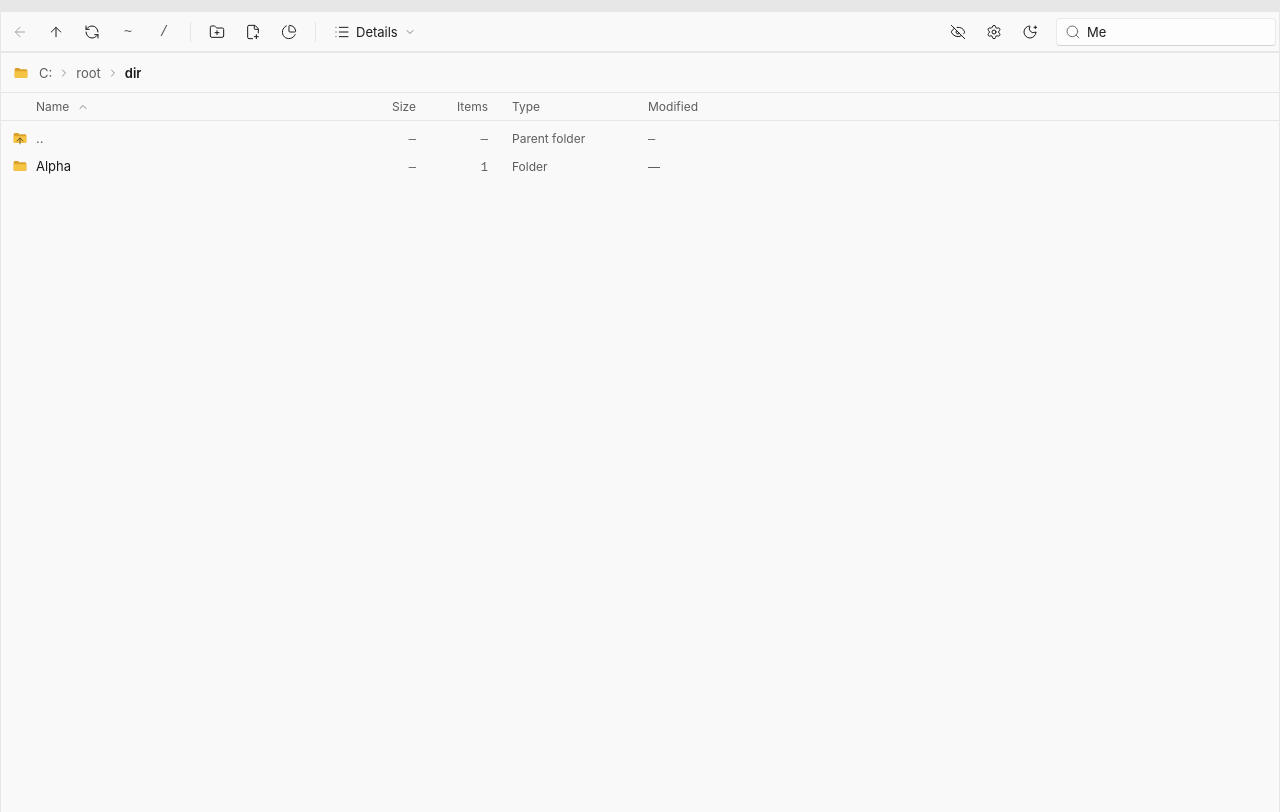
Test: FilePane state rendering › still types ordinary characters into the focused filter input
Click the field named "Left pane filter": click(1177, 32) 1087,22 -> 1267,40
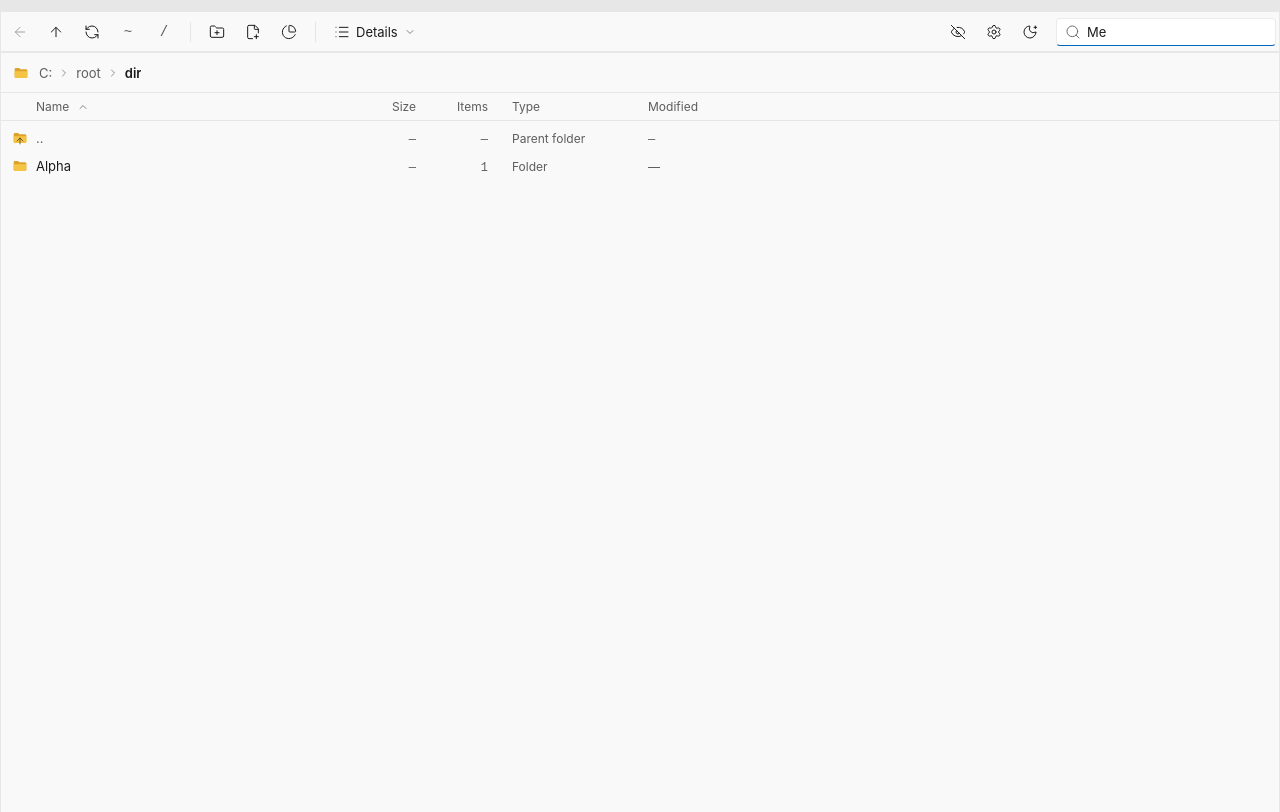
Type keys "dia"
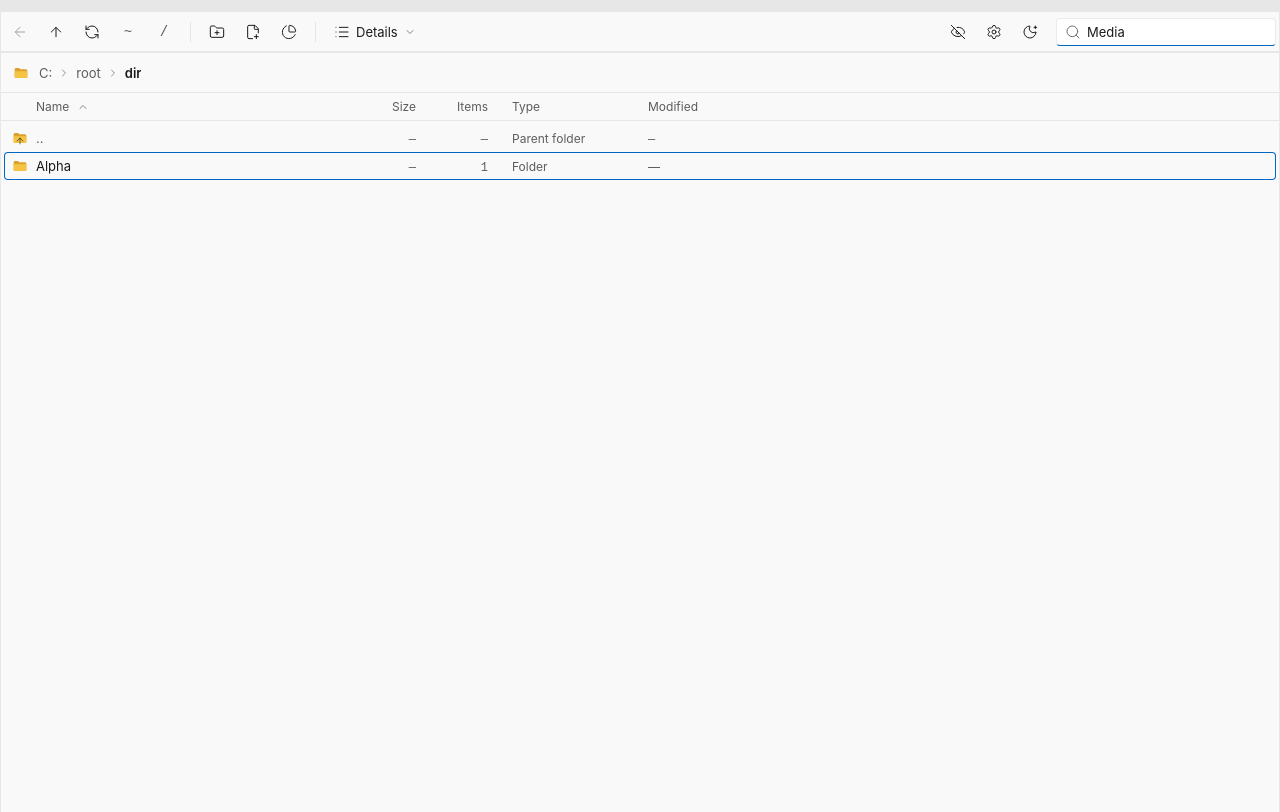
Check: the field named "Left pane filter" holds "Media", box 1087,22 -> 1267,40
